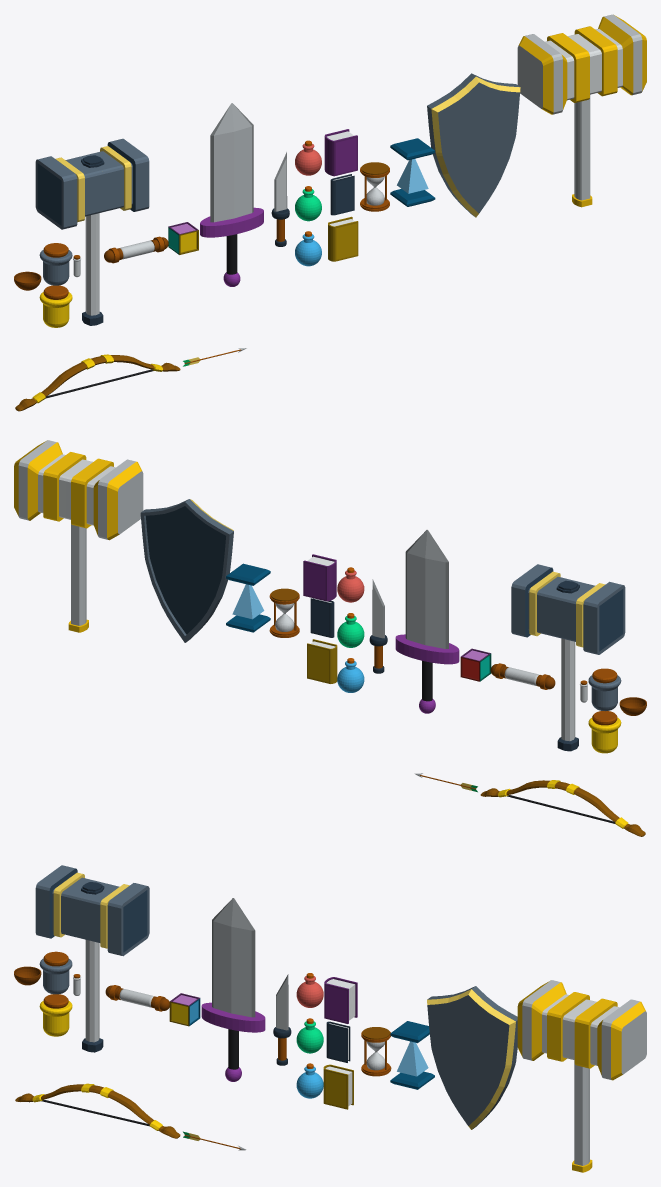
Rendered from ObjetosLoja.fbx.
3 views of the same model, one above another, from view 1: azimuth 30°, elevation 25°; view 2: azimuth 150°, elevation 25°; view 3: azimuth 330°, elevation 25° (orthographic).
Parts seen in each view (by area): view 1: Cube.002, Cube, Escudo, Espada, Cristal, Cube.001, Livro.002, Livro, Ampulheta, Cylinder.004, Cylinder, Faca (+6 smaller); view 2: Cube.002, Cube, Escudo, Espada, Cristal, Cube.001, Livro.002, Livro, Ampulheta, Cylinder, Cylinder.004, Faca (+6 smaller); view 3: Cube.002, Cube, Escudo, Espada, Cristal, Cube.001, Livro.002, Livro, Ampulheta, Cylinder, Cylinder.004, Faca (+6 smaller).
Part boxes in pixels (x1=…): Cube.002: x1=517, y1=14, x2=646, y2=207; Cube: x1=35, y1=138, x2=149, y2=325; Escudo: x1=427, y1=73, x2=520, y2=217; Espada: x1=200, y1=103, x2=263, y2=286; Cristal: x1=390, y1=138, x2=435, y2=206; Cube.001: x1=15, y1=354, x2=180, y2=411; Livro.002: x1=324, y1=129, x2=357, y2=176; Livro: x1=328, y1=216, x2=358, y2=261; Ampulheta: x1=360, y1=162, x2=389, y2=211; Cylinder.004: x1=39, y1=285, x2=72, y2=327; Cylinder: x1=39, y1=243, x2=72, y2=285; Faca: x1=271, y1=152, x2=289, y2=246; Cube.002: x1=14, y1=440, x2=143, y2=632; Cube: x1=511, y1=564, x2=625, y2=751; Escudo: x1=140, y1=499, x2=233, y2=642; Espada: x1=395, y1=529, x2=459, y2=713; Cristal: x1=226, y1=563, x2=270, y2=632; Cube.001: x1=480, y1=780, x2=645, y2=836; Livro.002: x1=303, y1=554, x2=336, y2=601; Livro: x1=307, y1=639, x2=337, y2=683; Ampulheta: x1=269, y1=588, x2=299, y2=637; Cylinder: x1=588, y1=668, x2=621, y2=711; Cylinder.004: x1=588, y1=711, x2=621, y2=753; Faca: x1=369, y1=579, x2=387, y2=673; Cube.002: x1=517, y1=980, x2=646, y2=1172; Cube: x1=35, y1=865, x2=149, y2=1052; Escudo: x1=427, y1=986, x2=517, y2=1129; Espada: x1=201, y1=898, x2=265, y2=1081; Cristal: x1=390, y1=1021, x2=434, y2=1089; Cube.001: x1=15, y1=1083, x2=180, y2=1138; Livro.002: x1=324, y1=977, x2=357, y2=1023; Livro: x1=323, y1=1064, x2=353, y2=1109; Ampulheta: x1=361, y1=1027, x2=391, y2=1076; Cylinder: x1=39, y1=951, x2=72, y2=994; Cylinder.004: x1=39, y1=994, x2=72, y2=1036; Faca: x1=273, y1=974, x2=291, y2=1065.
Size of the model in its own units: 5228 by 2055 by 461.
